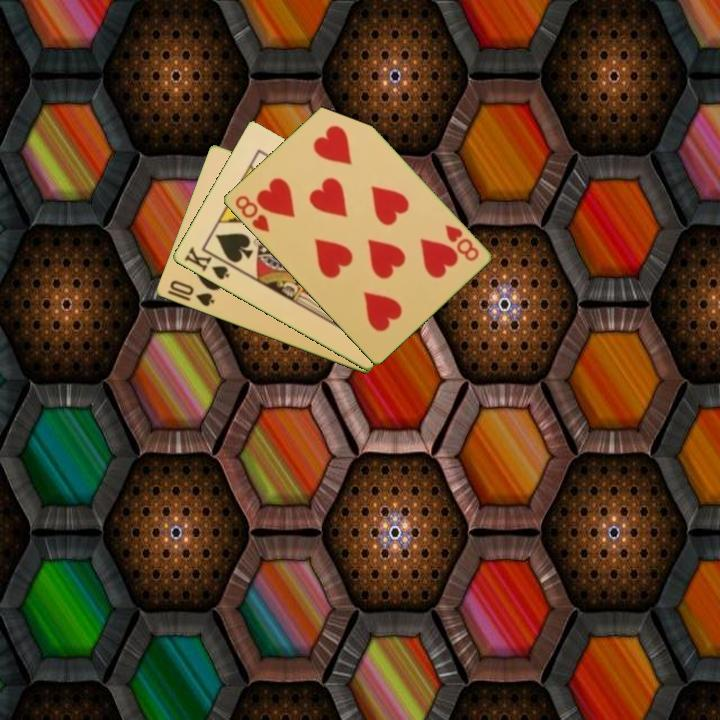10s: (166, 277, 217, 310)
8h: (231, 191, 273, 236), (441, 221, 481, 264)
Ks: (180, 243, 232, 283)
